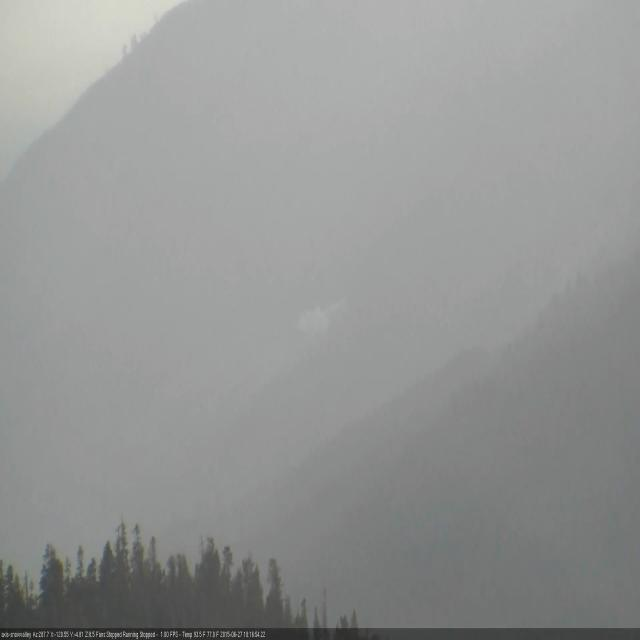smoke: (294, 290, 348, 332)
